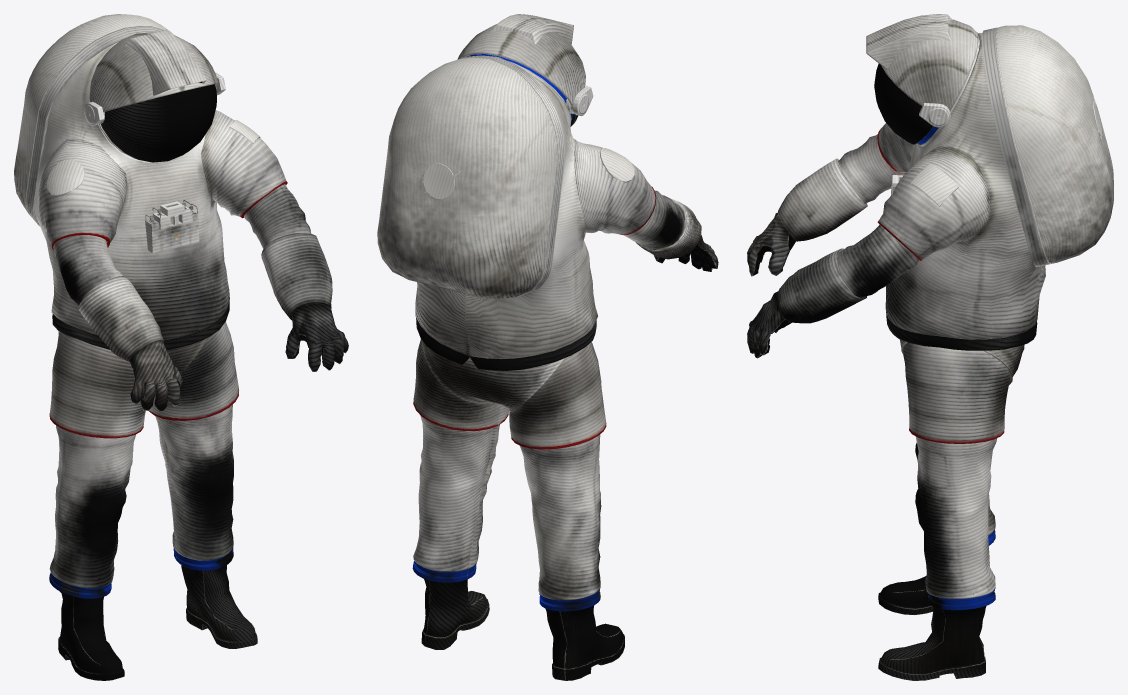
The picture shows the model from 3 angles, left to right: view 1: azimuth 30°, elevation 25°; view 2: azimuth 150°, elevation 25°; view 3: azimuth 270°, elevation 25°; orthographic projection.
Visible parts, largest first — view 1: Z2; view 2: Z2; view 3: Z2.
Boxes of the visible parts, x1=… form: Z2: x1=14, y1=14, x2=348, y2=680; Z2: x1=377, y1=14, x2=718, y2=680; Z2: x1=747, y1=14, x2=1113, y2=680.
Size of the model in its own units: 0.7944 by 1.94 by 1.04.
1 material, 1 textured.
